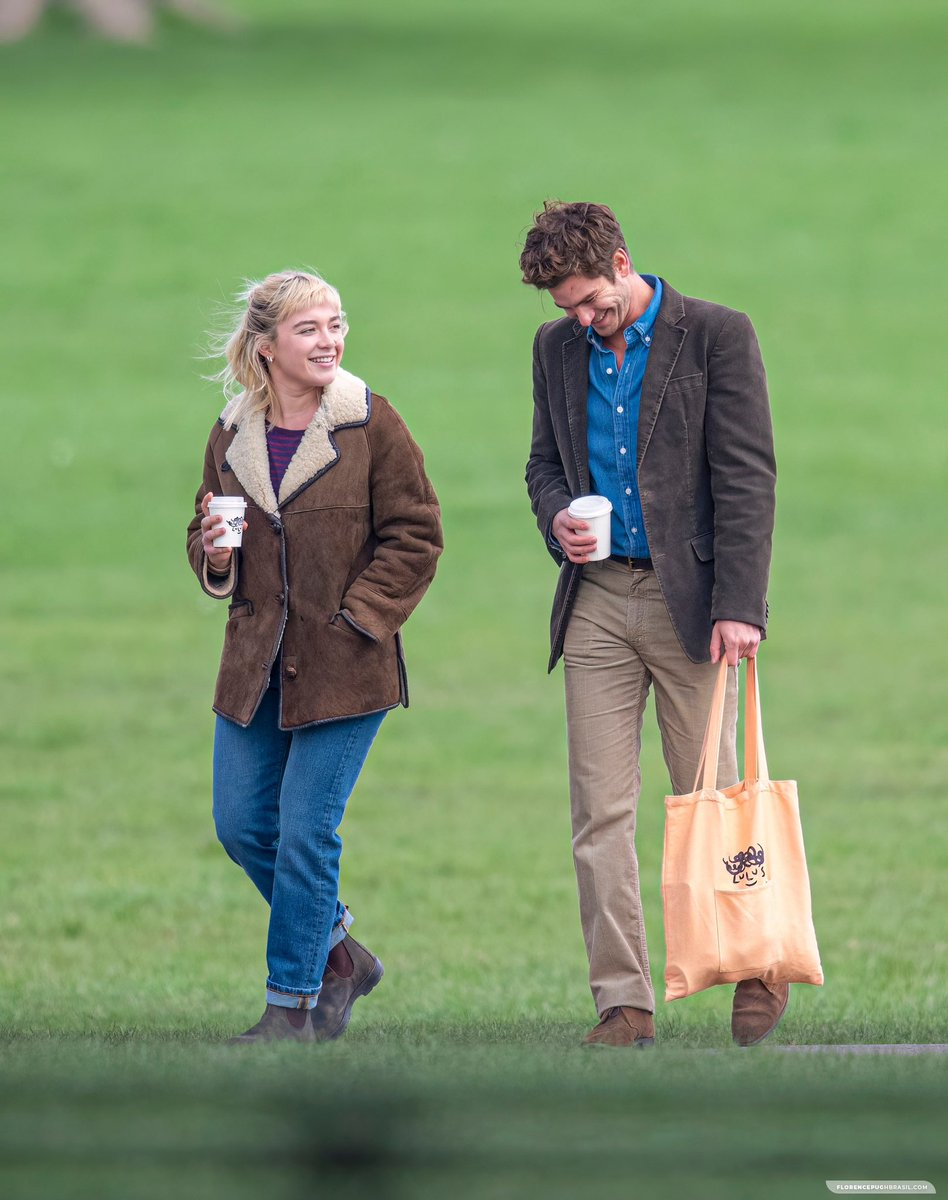person: (513, 196, 832, 1052), (145, 262, 461, 1067)
